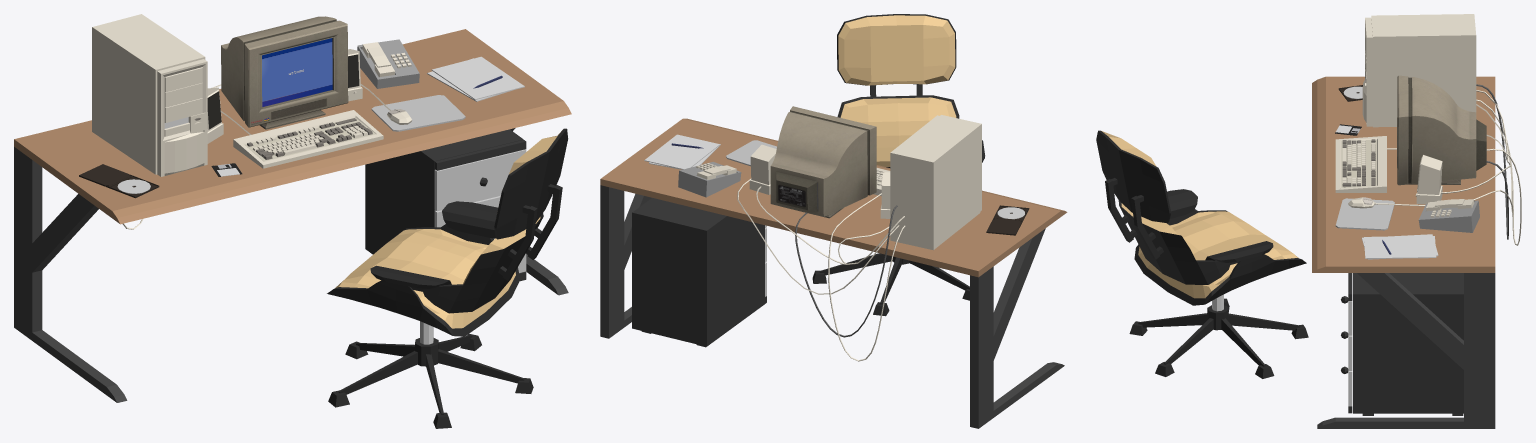
Rendered from desk.gltf.
3 views of the same model, side by side, from view 1: azimuth 30°, elevation 25°; view 2: azimuth 150°, elevation 25°; view 3: azimuth 270°, elevation 25° (orthographic). The views are drawn at different scales.
Parts seen in each view (by area): view 1: computer, computer.screen; view 2: computer; view 3: computer.
Part boxes in pixels (box(x1,y1,x2,y2)): computer: box(14, 14, 571, 428); computer.screen: box(262, 38, 332, 106); computer: box(600, 14, 1067, 428); computer: box(1096, 14, 1521, 428).
Bounding box in the file's own units: 188 × 116 × 178.
Materials: 3 (3 with a texture image).
